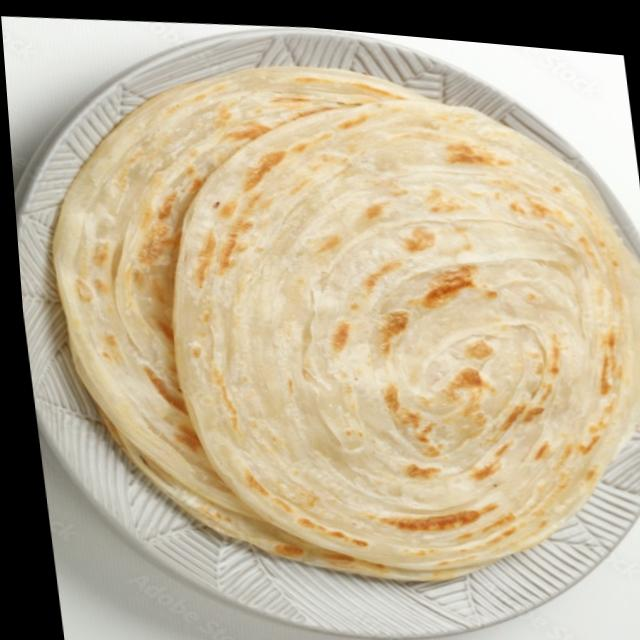PAROTTA: (49, 66, 640, 582)
